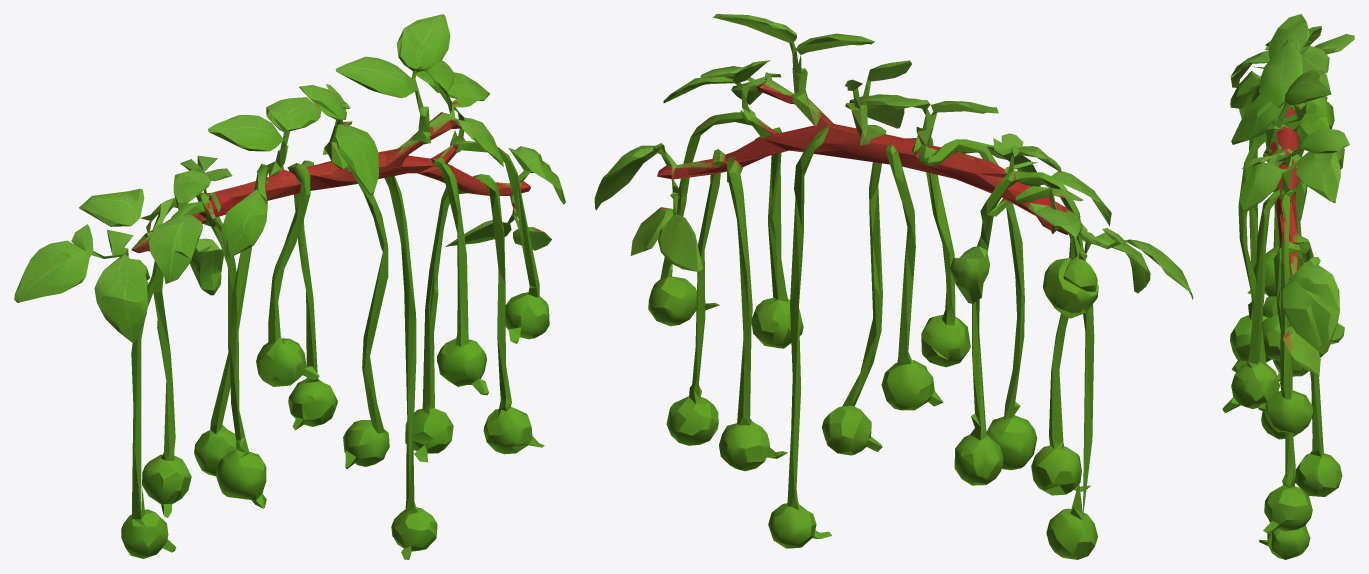
The model's file is hanging-vines.glb.
3 views of the same model, side by side, from view 1: azimuth 30°, elevation 25°; view 2: azimuth 150°, elevation 25°; view 3: azimuth 270°, elevation 25° (orthographic). The views are drawn at different scales.
Visible parts, largest first — view 1: mesh_node; view 2: mesh_node; view 3: mesh_node.
Boxes of the visible parts, left/top/right/bottom form: mesh_node: left=14, top=14, right=565, bottom=559; mesh_node: left=594, top=14, right=1193, bottom=559; mesh_node: left=1222, top=14, right=1354, bottom=559.
Size of the model in its own units: 1.9 by 1.66 by 0.4039.
Materials: 1 (1 with a texture image).
